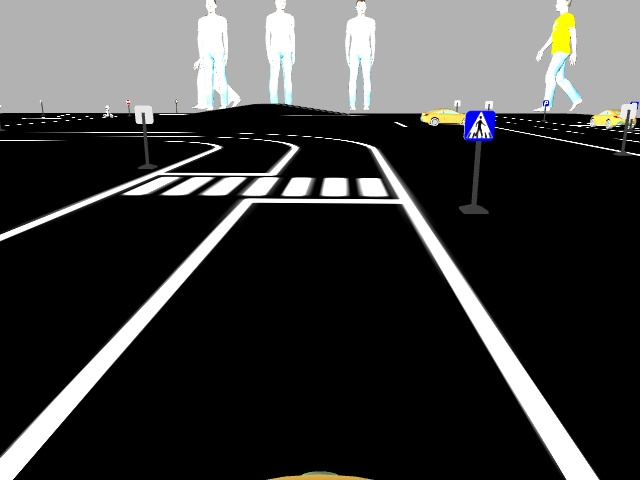Crosswalk: (462, 111, 496, 142)
